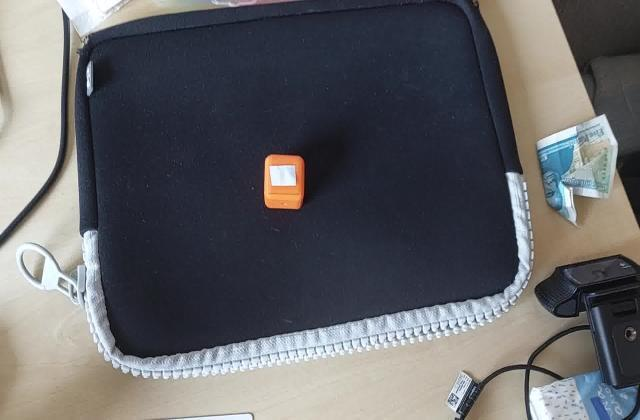sticker: (261, 154, 306, 210)
white: (268, 164, 298, 189)
